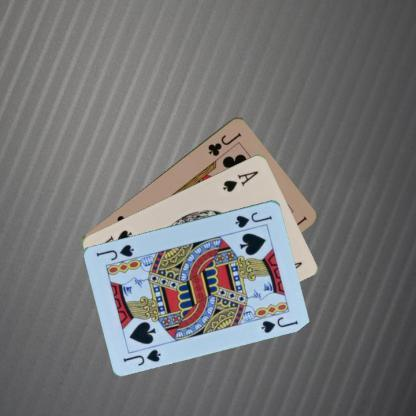As: (220, 168, 260, 193)
Jc: (205, 130, 243, 158)
Js: (121, 346, 162, 367), (232, 209, 274, 229)
